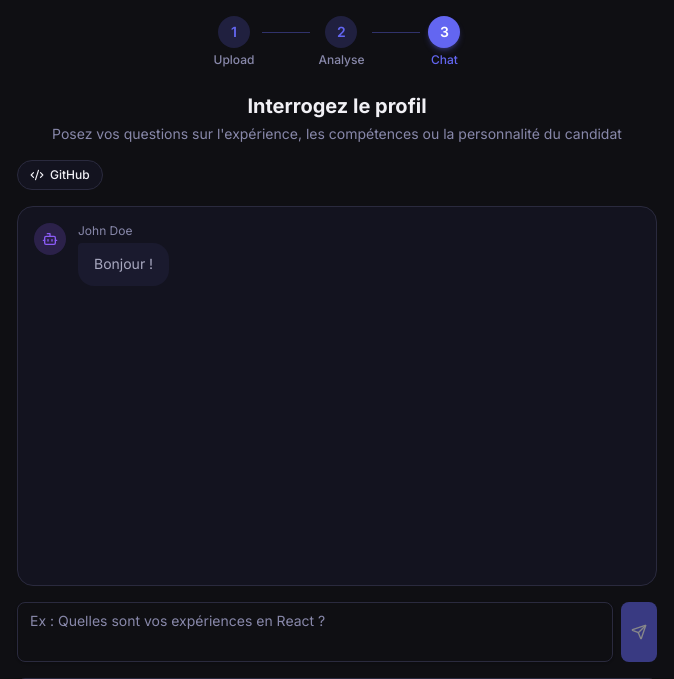
Test: HomePage — Step 3 (Chat) › displays assistant reply after sending
This screenshot has width=674, height=679.
Type "Test question" into the text box with placeholder "Ex : Quelles sont vos expériences en React ?" at (315, 632), box [17,602,613,662]
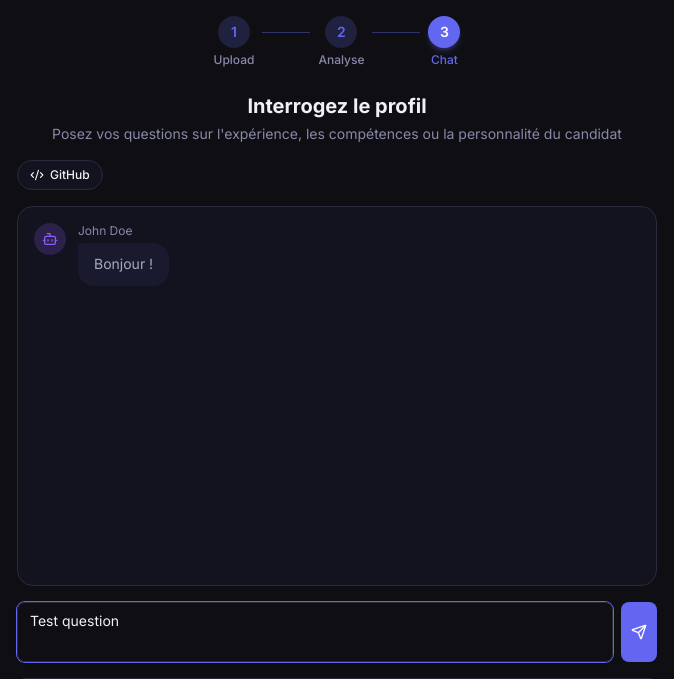
Click the button named "envoyer" at (639, 632), box [621,602,657,662]
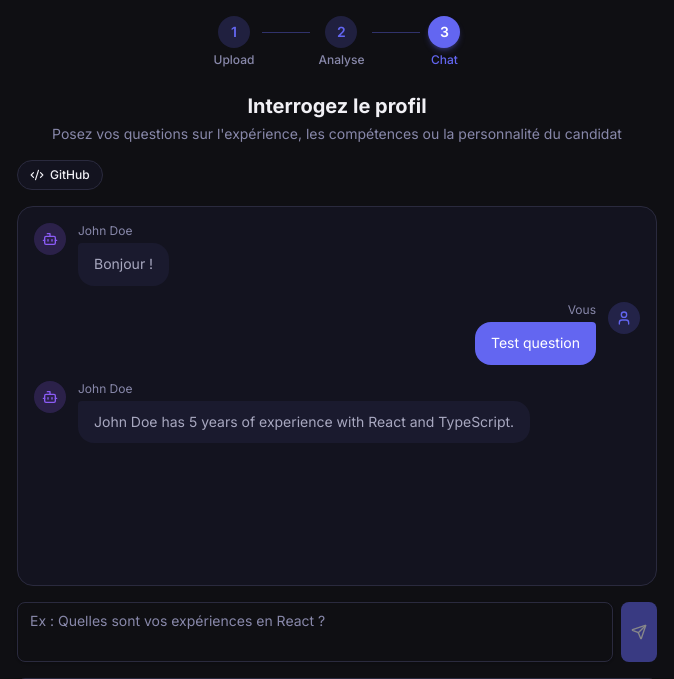
Check: the text "John Doe has 5 years" is shown, box [94,412,514,430]
